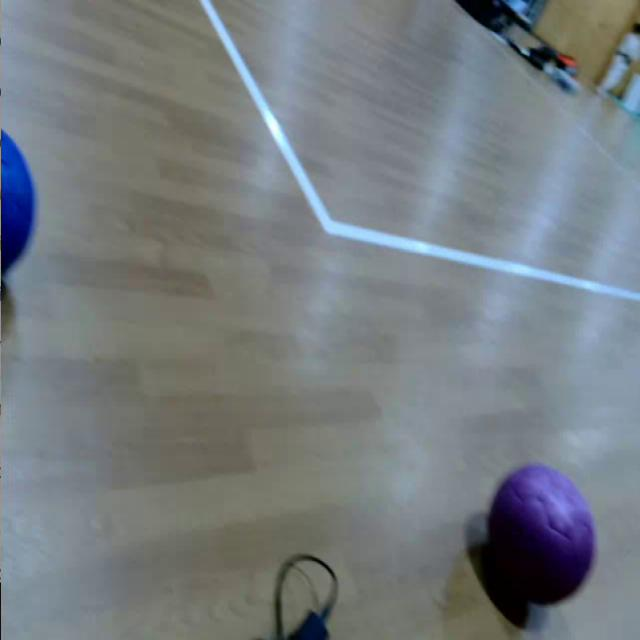blue_ball: (0, 123, 36, 287)
purple_ball: (486, 463, 595, 602)
